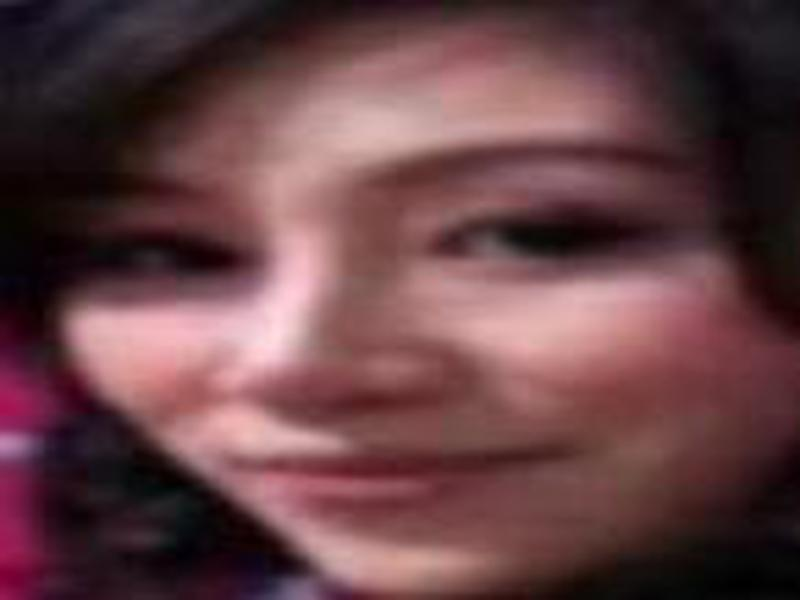without_mask: (59, 85, 768, 591)
